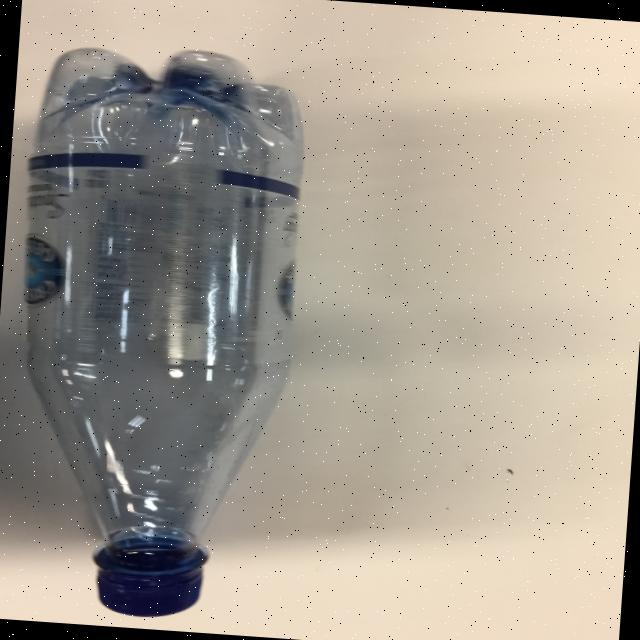plastic: (0, 38, 314, 624)
